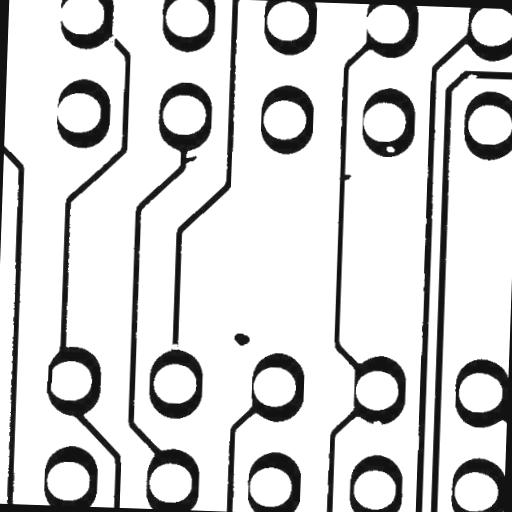copper: (226, 324, 256, 352)
mousebite: (458, 66, 484, 88), (364, 412, 390, 433)
open: (99, 27, 124, 53), (158, 335, 187, 357)
pin-hole: (378, 138, 402, 160)
short: (38, 356, 60, 402)
spur: (174, 147, 204, 174), (334, 166, 358, 186)
